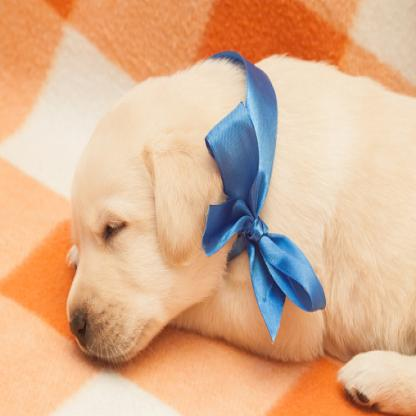Labarador Retriever: (64, 50, 416, 415)
